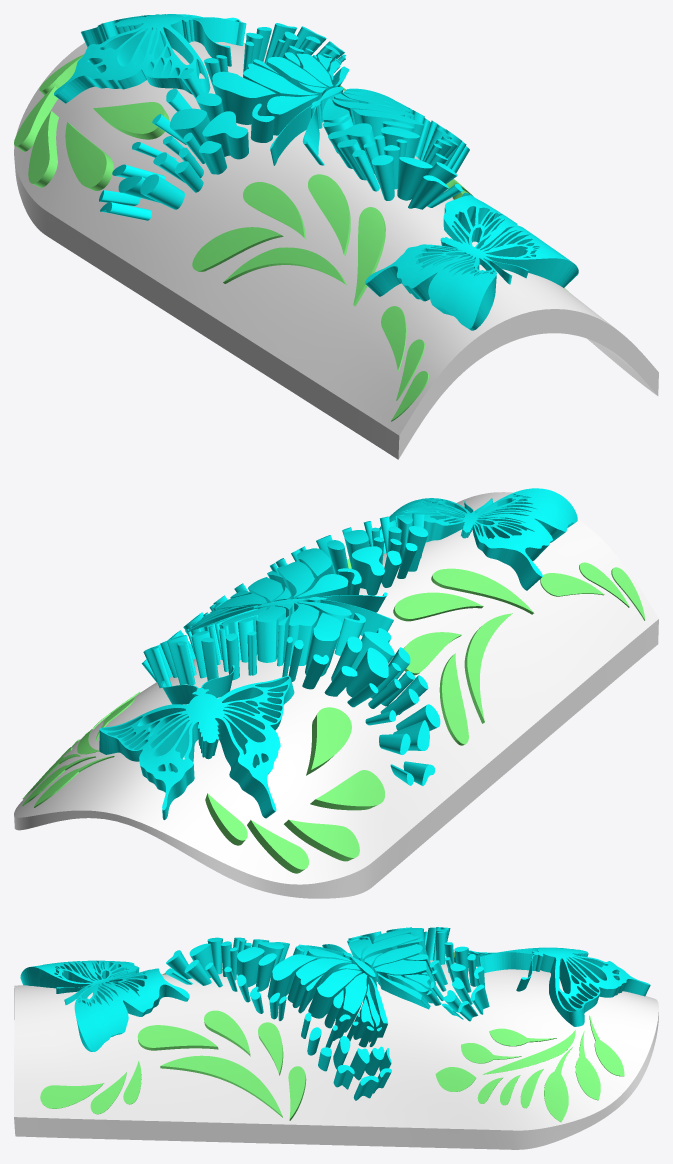
Rendered from butterfly-cove-square-full.glb.
3 renders of one model, top to bottom at view 1: azimuth 30°, elevation 25°; view 2: azimuth 150°, elevation 25°; view 3: azimuth 270°, elevation 25°, orthographic. The views are drawn at different scales.
Bounding box in the file's own units: 0.0138 × 0.00739 × 0.0301.
